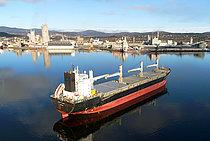Ship: (48, 59, 175, 120)
